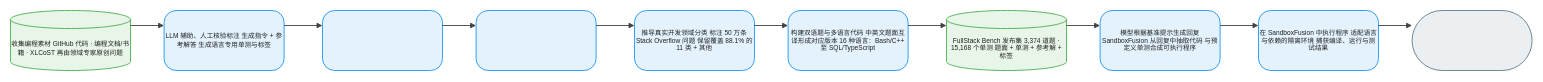
This 1543x82 diagram has some shape labels left out. Each missing label, with the centre of its shape:
"六模型投票确定难度 删除六个模型全部答对的题 1 个答对=难 · 5–6 个=易 · 其余=中" goes at (x=535, y=40).
"判定执行结果并报告 Pass@1 单测执行通过即为正确 按语言、领域和难度分析" goes at (x=1471, y=40).
"标注员逐题评估 难度 · 歧义 · 可解性 交叉精炼；共识或资深标注员裁决" goes at (x=382, y=40).
